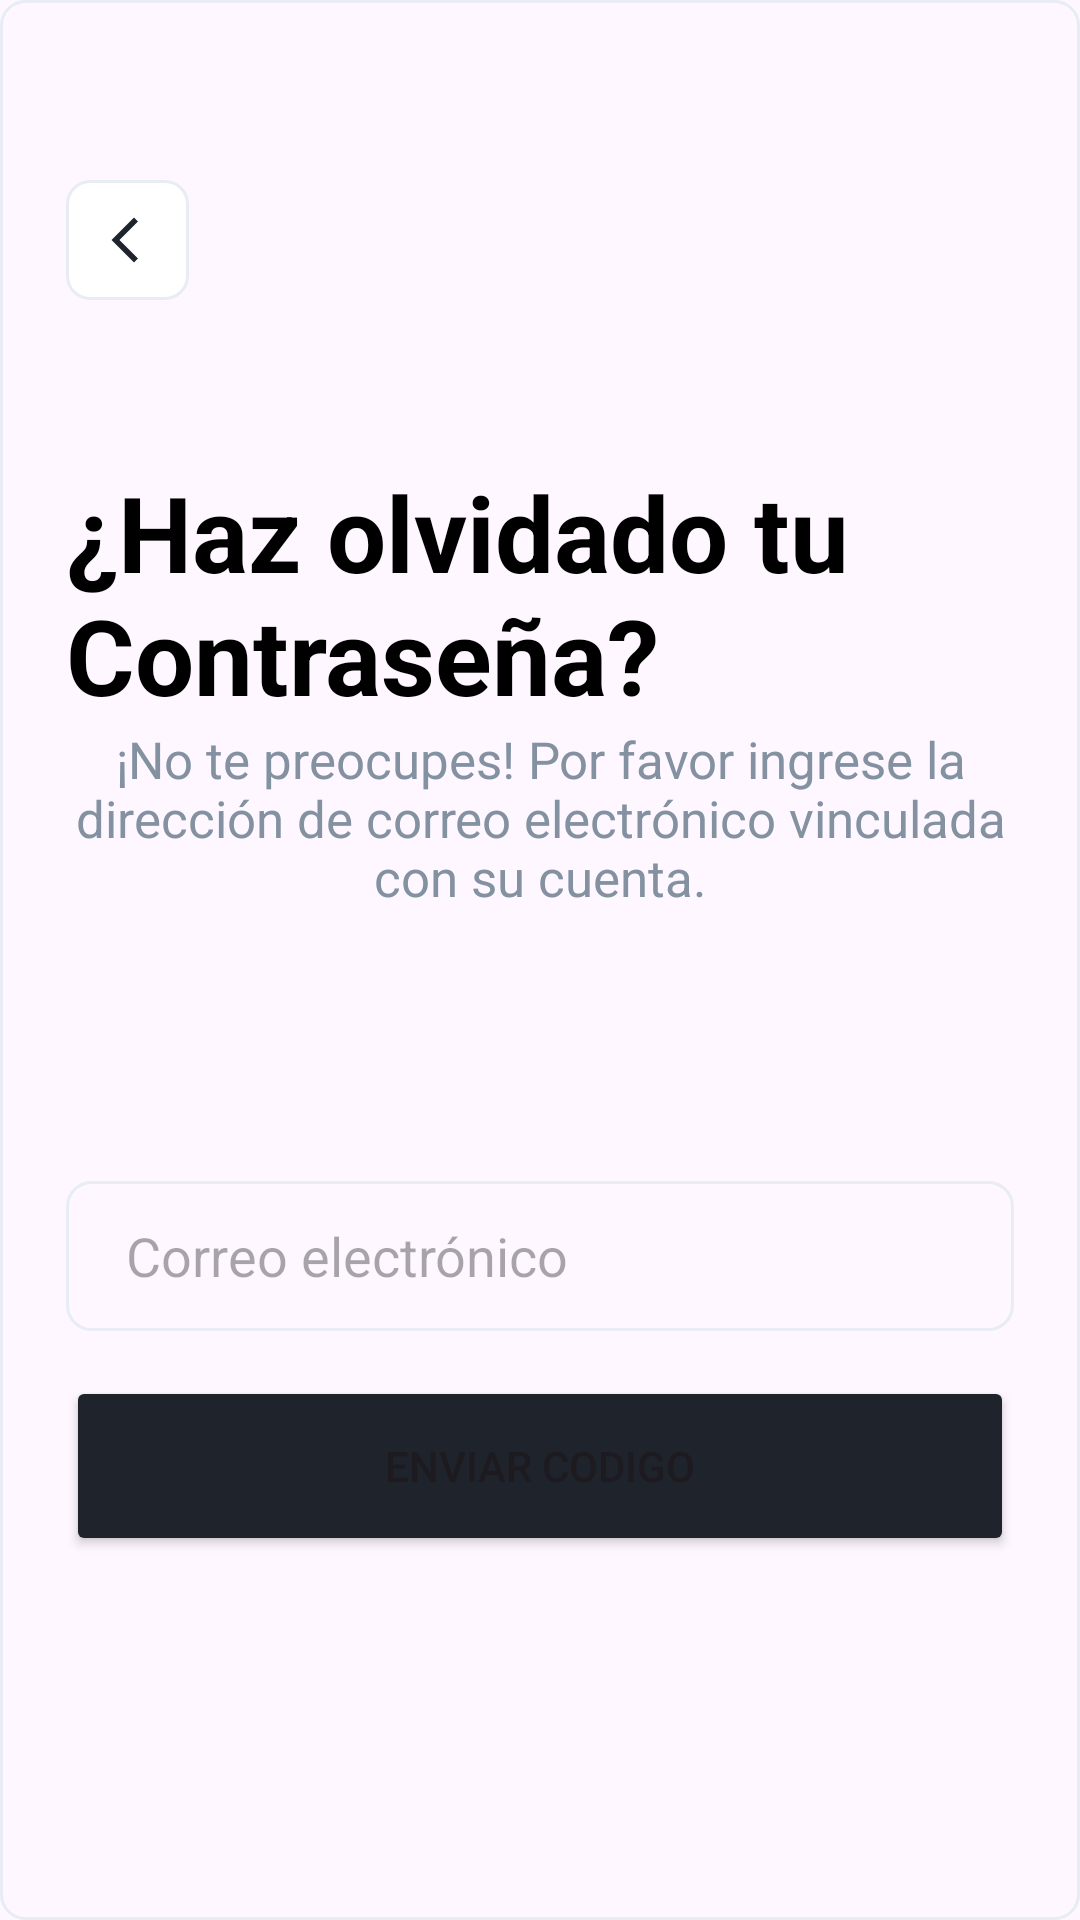

Named icons in this screenshot (1080x1920) and their centers, [x,y]:
arrow back: [127,240]
